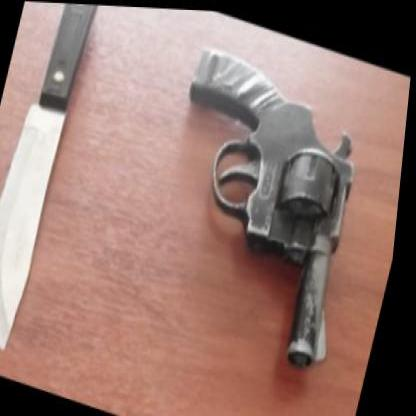knife: (0, 50, 82, 362)
